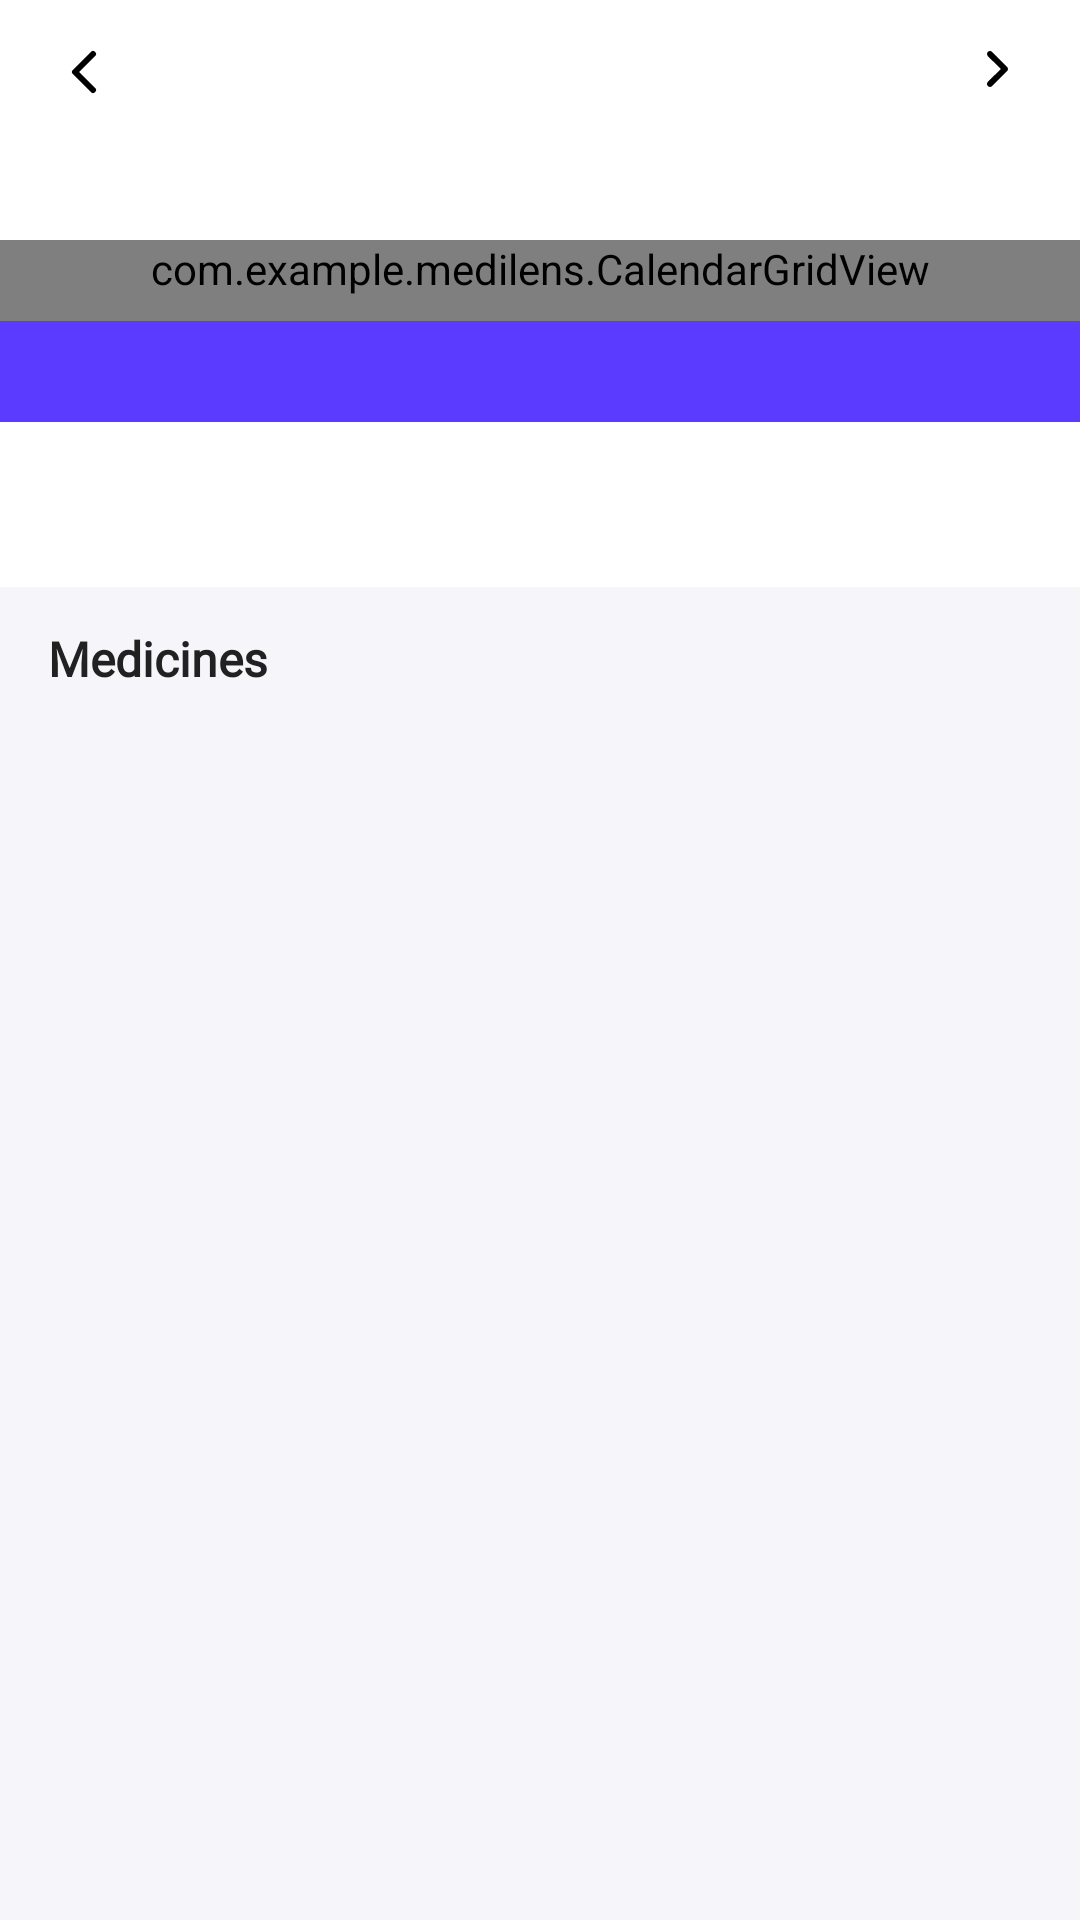

Named icons in this screenshot (1080x1920) and their centers, (x,y):
Next month: (997,69)
Previous month: (84,72)
